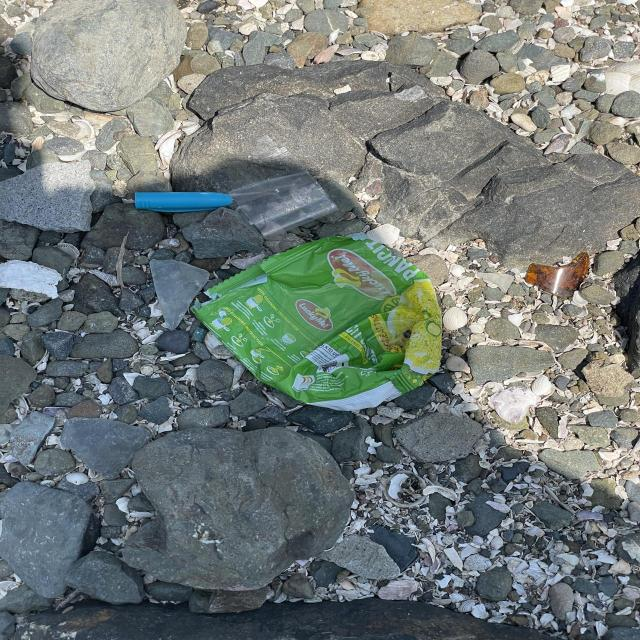plastic_waste: (188, 232, 443, 414), (230, 171, 340, 241)
